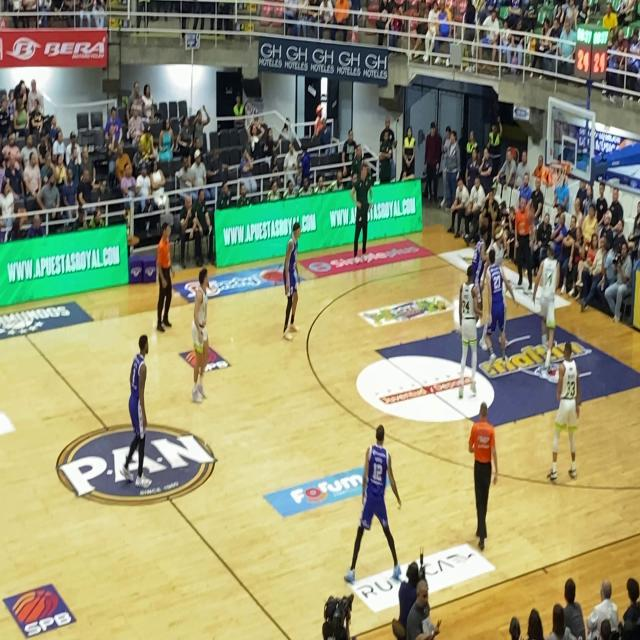referee: (458, 378, 502, 556), (148, 209, 182, 357), (511, 194, 536, 314)
team1: (524, 232, 563, 394), (548, 332, 582, 497), (448, 261, 482, 415), (190, 264, 218, 413)
team2: (340, 400, 404, 587), (110, 320, 154, 494), (274, 214, 306, 356), (482, 249, 514, 378), (468, 215, 493, 293)
ubasket: (547, 160, 569, 193)
